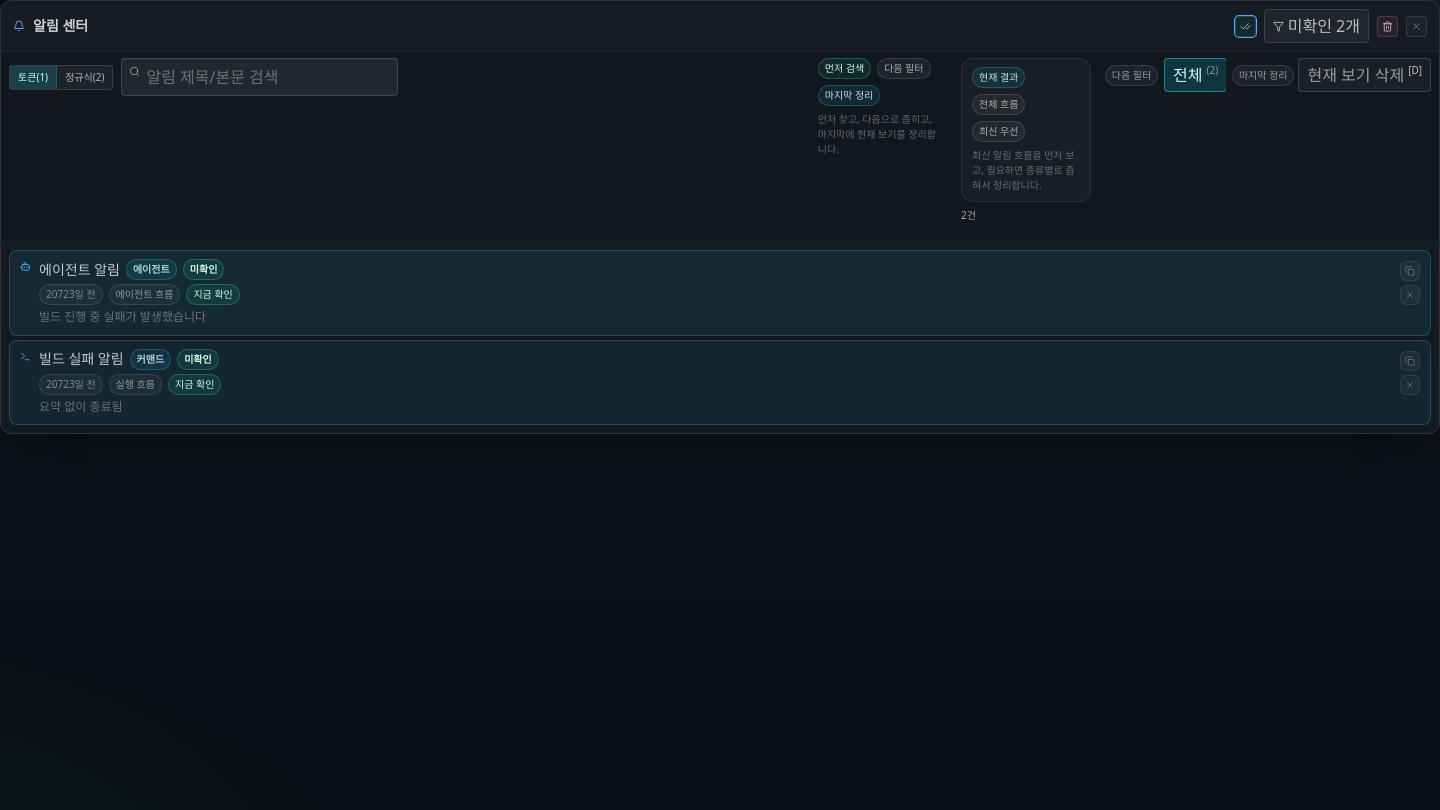
it: NotificationCenter › 검색어를 공백 기준 다중 키워드로 처리하고 제목/본문 매칭 건수를 분리한다
The image size is (1440, 810).
Type "빌드 실패" into the field named "알림 검색" at point(260, 77), box x1=122 y1=58 x2=398 y2=96
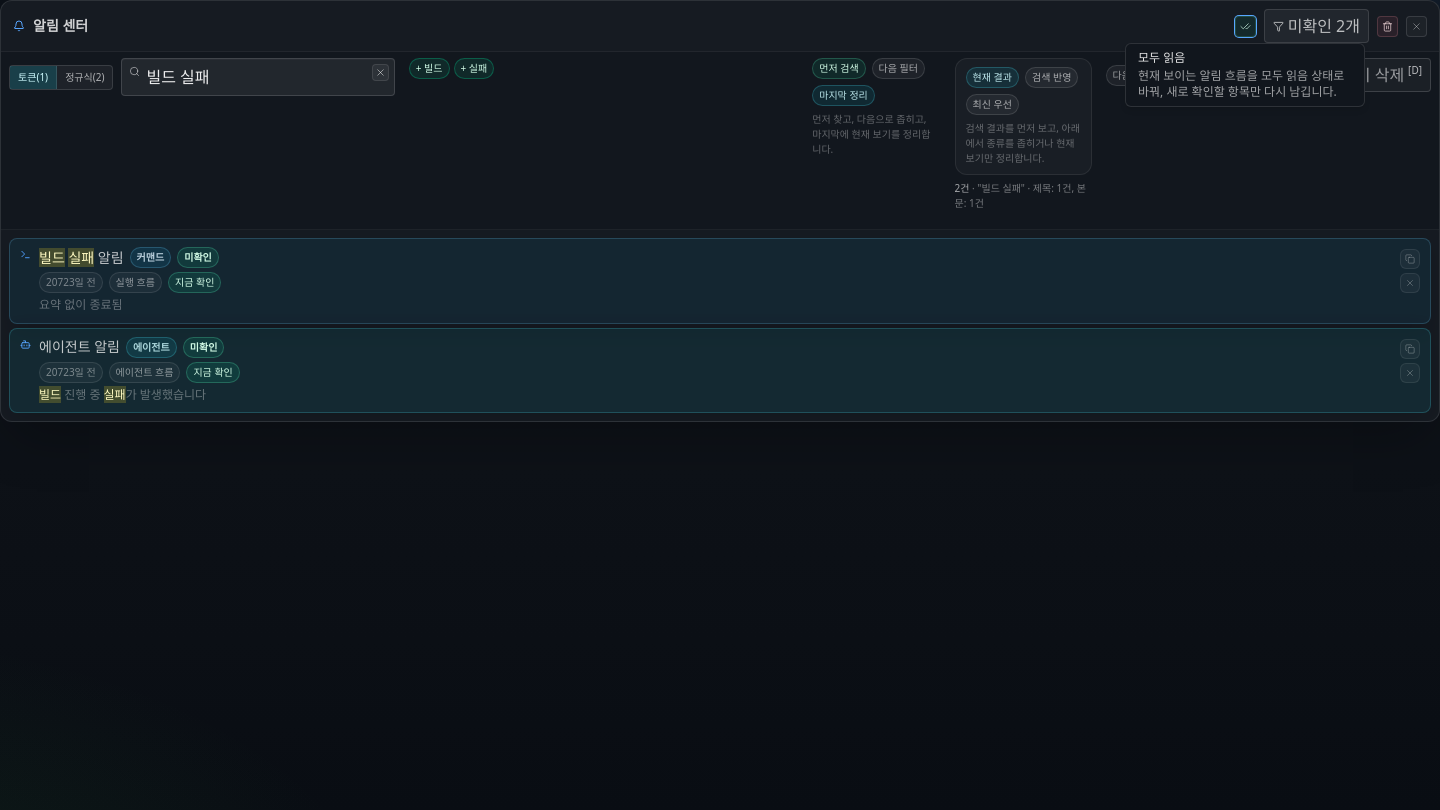
Expected: the text "2건 · \"빌드 실패\" · 제목: 1건, 본문: 1건" is shown, x1=954 y1=175 x2=1092 y2=217
Expected: the text "빌드" in the row of "커맨드" is shown, x1=39 y1=248 x2=65 y2=266
Expected: the text "실패" in the row of "커맨드" is shown, x1=68 y1=248 x2=94 y2=266
